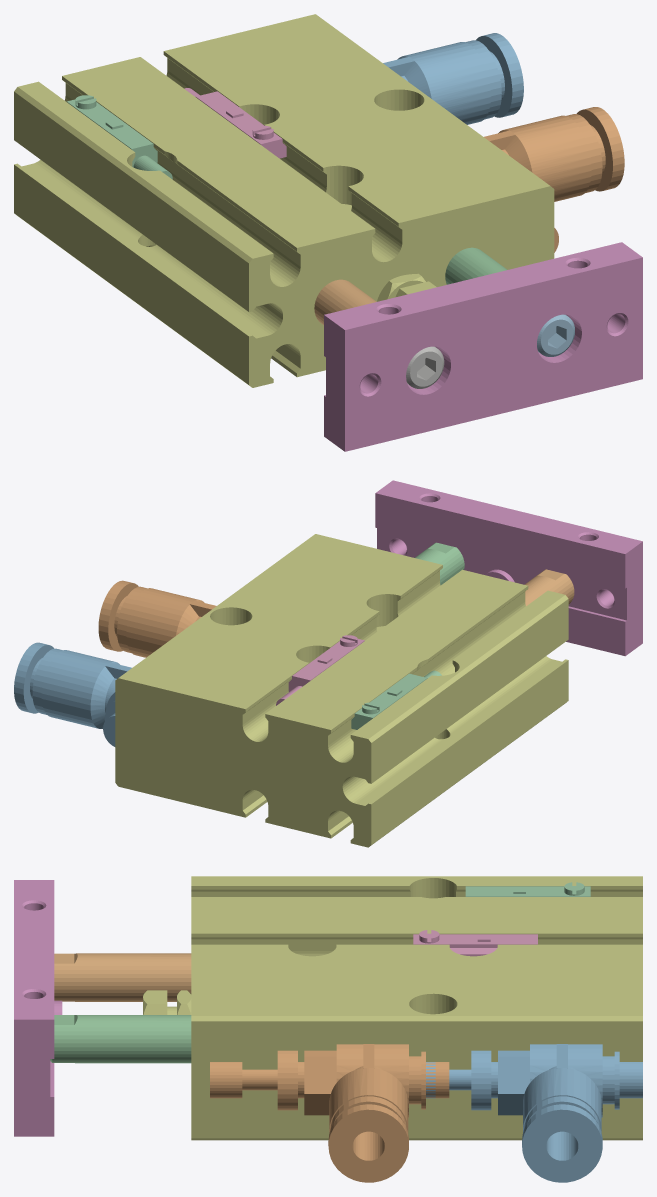
The model's file is case-02_gpt55.glb.
3 views of the same model, one above another, from view 1: azimuth 30°, elevation 25°; view 2: azimuth 150°, elevation 25°; view 3: azimuth 270°, elevation 25° (orthographic). The views are drawn at different scales.
Parts seen in each view (by area): view 1: c00001, c00002, c00009, c00010, c00008, c00007, c00003, c00004, c00005, c00006; view 2: c00001, c00002, c00010, c00009, c00007, c00008, c00003, c00004; view 3: c00001, c00009, c00010, c00002, c00004, c00003, c00007, c00008.
Boxes of the visible parts, bbox=[...] form: c00001: bbox=[14, 14, 554, 387]; c00002: bbox=[324, 242, 642, 451]; c00009: bbox=[484, 107, 624, 252]; c00010: bbox=[383, 33, 523, 124]; c00008: bbox=[66, 95, 172, 179]; c00007: bbox=[184, 88, 286, 158]; c00003: bbox=[314, 279, 376, 324]; c00004: bbox=[445, 247, 507, 284]; c00005: bbox=[406, 346, 444, 388]; c00006: bbox=[537, 314, 574, 356]; c00001: bbox=[115, 534, 568, 847]; c00002: bbox=[375, 480, 642, 656]; c00010: bbox=[14, 642, 131, 746]; c00009: bbox=[98, 580, 216, 657]; c00007: bbox=[276, 635, 364, 705]; c00008: bbox=[351, 670, 441, 729]; c00003: bbox=[524, 569, 574, 605]; c00004: bbox=[415, 542, 464, 585]; c00001: bbox=[143, 876, 642, 1140]; c00009: bbox=[210, 1044, 449, 1182]; c00010: bbox=[426, 1044, 642, 1182]; c00002: bbox=[14, 880, 62, 1136]; c00004: bbox=[50, 1015, 191, 1063]; c00003: bbox=[54, 953, 191, 1001]; c00007: bbox=[413, 930, 537, 956]; c00008: bbox=[465, 882, 590, 896].
Bounding box in the file's own units: 61.5 × 17.69 × 78.
